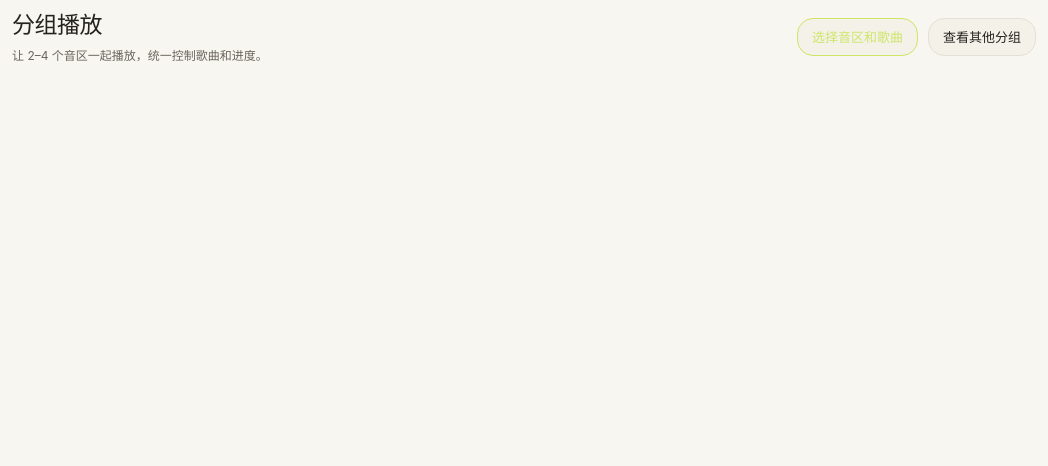
分组播放 › 手动恢复可从重开后的分组列表找到中断分组且不自动提交
Click the button "查看其他分组" at coordinates (982, 37), box [928,18,1036,56]
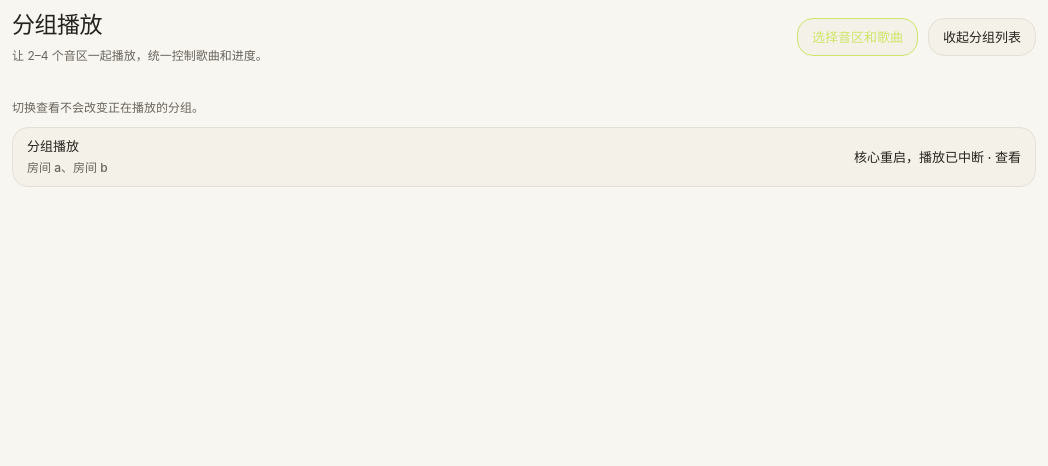
Click the button "分组播放 房间 a、房间 b 核心重启，播放已中断 · 查看" at coordinates (53, 146), box [12,127,1036,187]
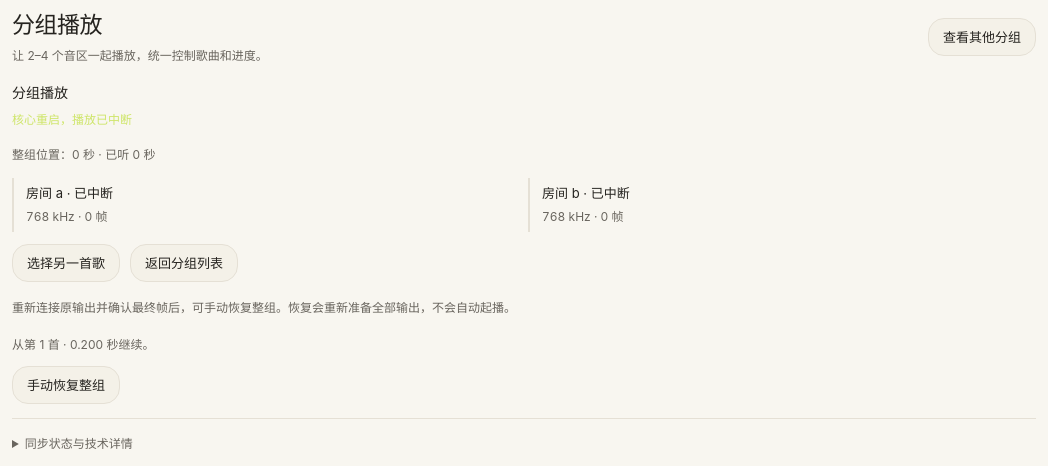
Expected: the text "手动恢复整组" is shown, [12,300,516,316]
Expected: the text "0.200 秒继续" is shown, [12,337,154,352]
